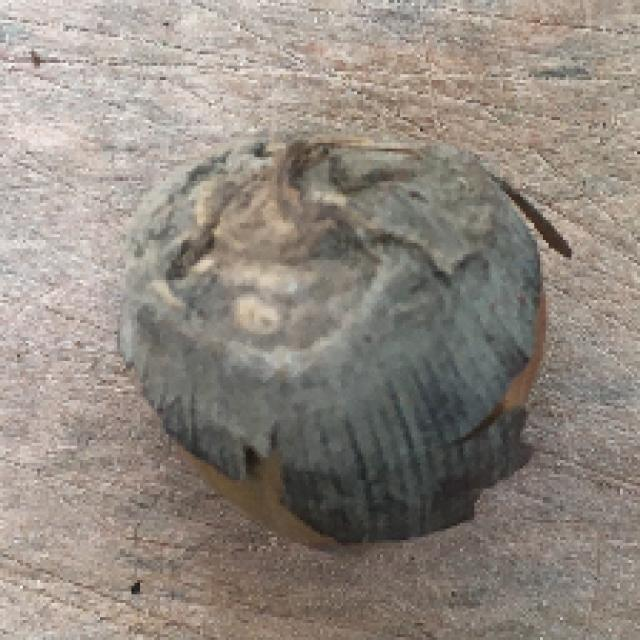damagedHazelnut: (112, 112, 570, 552)
